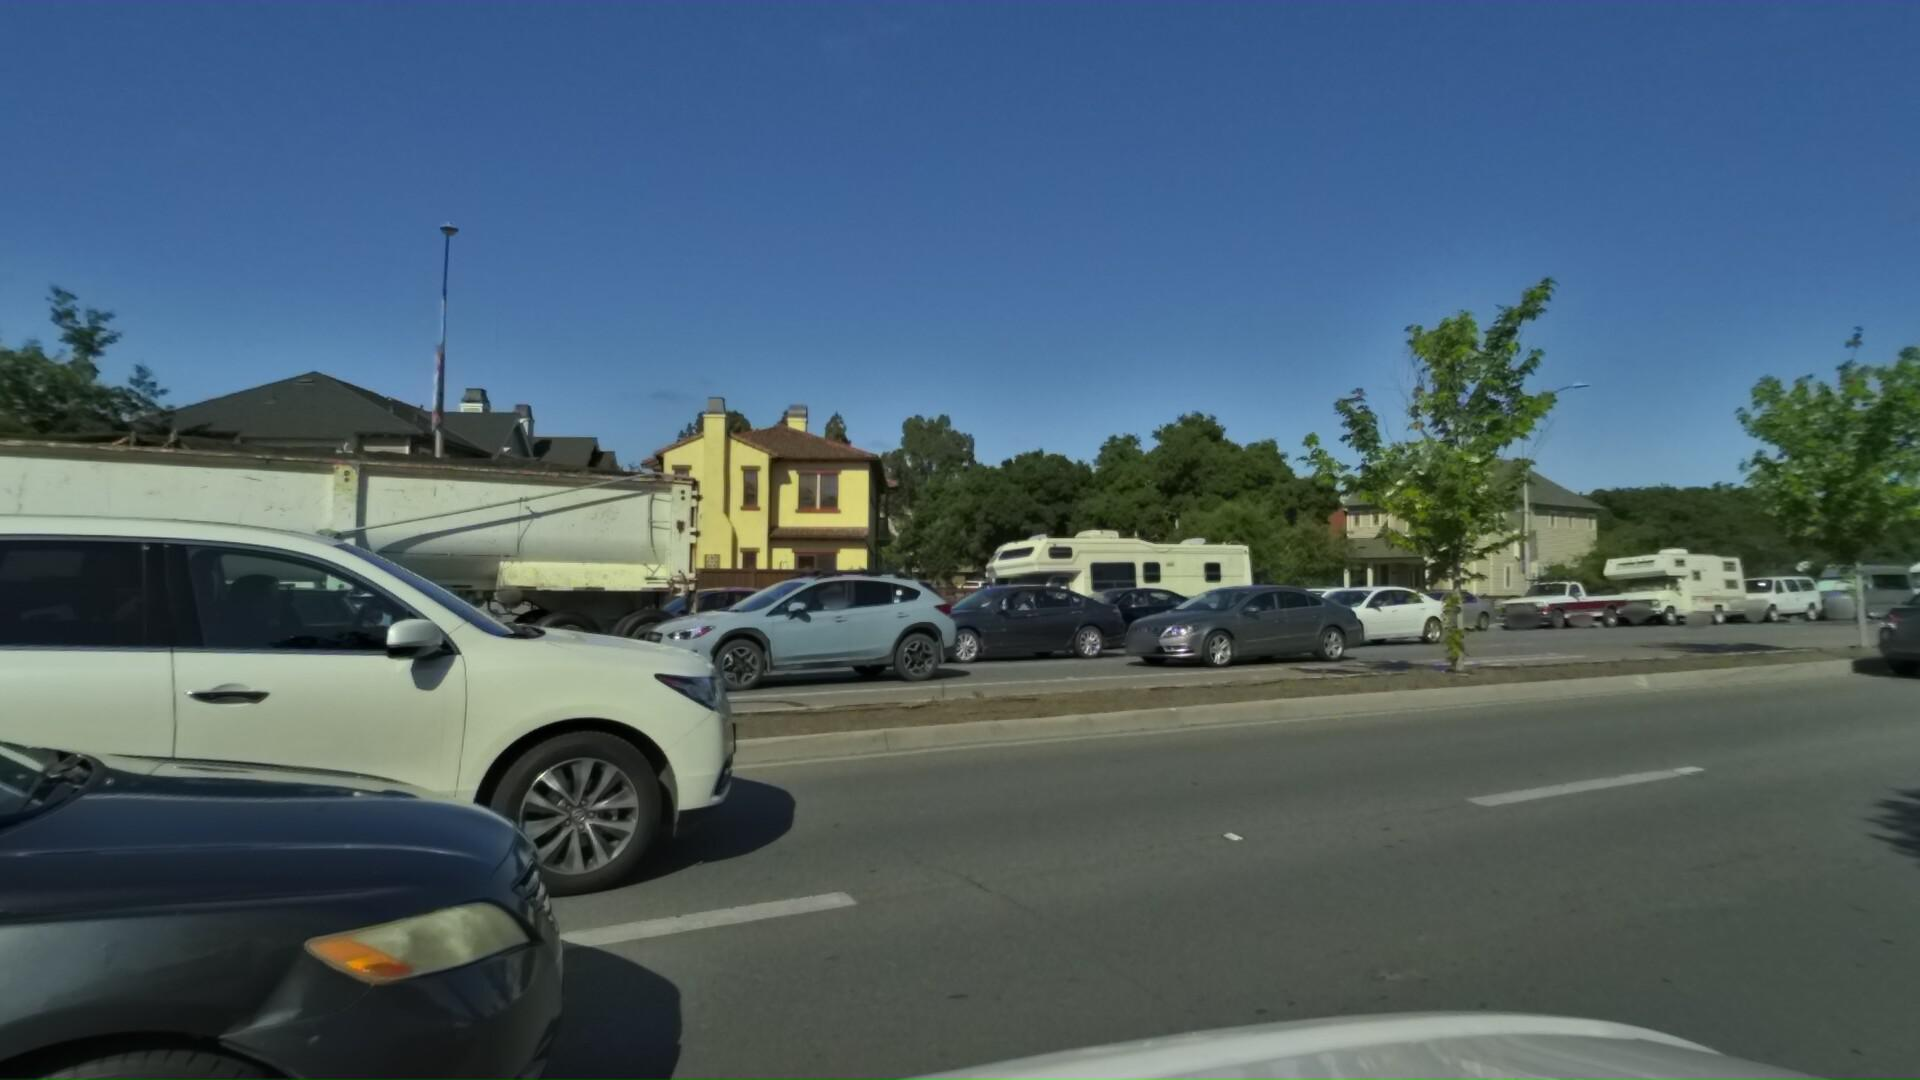car: (0, 447, 779, 1054), (585, 549, 948, 698), (353, 535, 644, 663), (1075, 568, 1364, 670), (526, 576, 819, 669), (843, 568, 1118, 665), (1241, 579, 1440, 653), (1007, 578, 1207, 647), (1216, 574, 1390, 638), (1474, 564, 1625, 626), (1782, 551, 1913, 621), (1854, 562, 1920, 686), (1700, 566, 1817, 621), (1358, 582, 1487, 632)
other_vehicle: (942, 512, 1249, 647), (1578, 535, 1753, 624), (1884, 545, 1920, 615)
truck: (0, 313, 688, 799)
